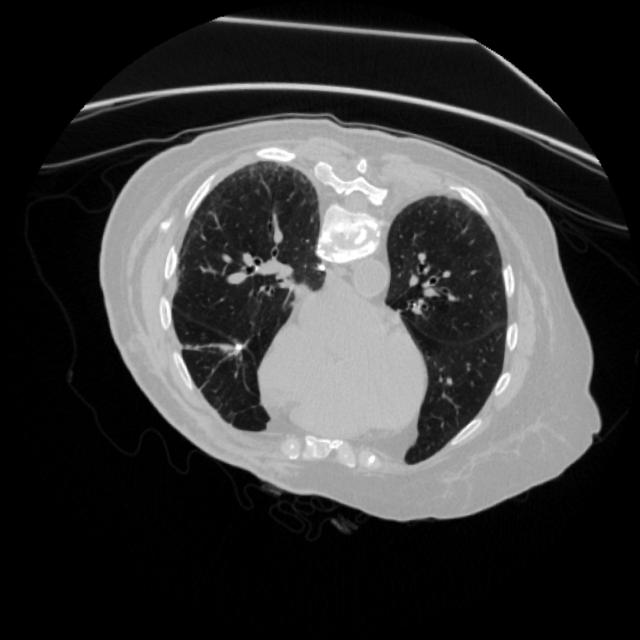nodule: (308, 257, 328, 277)
